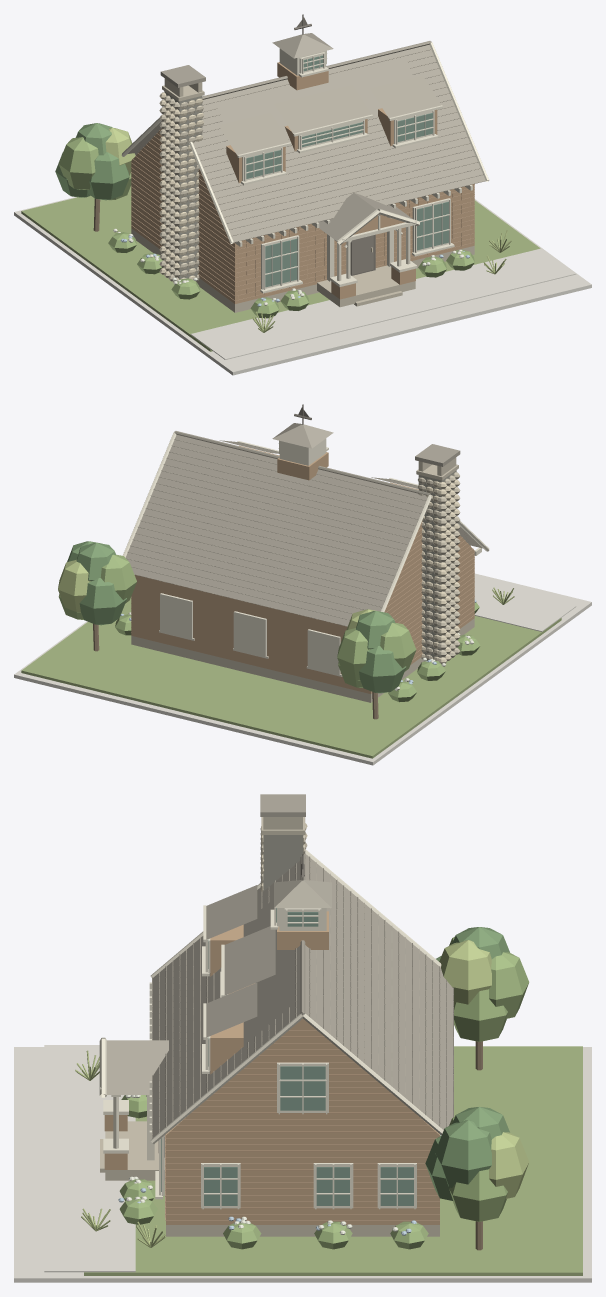
The model's file is shingle-cottage.glb.
3 renders of one model, top to bottom at view 1: azimuth 30°, elevation 25°; view 2: azimuth 150°, elevation 25°; view 3: azimuth 270°, elevation 25°, orthographic. The views are drawn at different scales.
Parts seen in each view (by area): view 1: roof, paving, cedar, grass, cream, stone, leaf, glass, cedar3, stone2, roof2, leafdark (+3 smaller); view 2: roof, grass, cedar, paving, stone, cream, leaf, leafdark, roof2, stone2, leaflight, mortar (+1 smaller); view 3: roof, grass, cedar, paving, cream, leaf, cedar3, glass, leafdark, leaflight, stone, roof2 (+1 smaller).
Boxes of the visible parts, box(x1,y1,x2,y2) form: roof: box(128, 33, 487, 242); paving: box(14, 197, 591, 375); cedar: box(131, 62, 474, 303); grass: box(21, 185, 540, 351); cream: box(121, 42, 489, 293); stone: box(131, 78, 474, 312); leaf: box(58, 137, 474, 318); glass: box(246, 55, 448, 287); cedar3: box(131, 128, 474, 301); stone2: box(159, 92, 372, 279); roof2: box(195, 49, 485, 240); leafdark: box(55, 123, 129, 200); roof: box(125, 423, 482, 626); grass: box(21, 597, 561, 758); cedar: box(131, 445, 474, 693); paving: box(14, 573, 591, 765); stone: box(131, 457, 474, 702); cream: box(122, 432, 489, 676); leaf: box(58, 554, 480, 702); leafdark: box(67, 541, 406, 693); roof2: box(126, 439, 423, 626); stone2: box(421, 479, 460, 664); leaflight: box(58, 559, 514, 630); mortar: box(418, 470, 456, 657); roof: box(103, 794, 453, 1137); grass: box(84, 1046, 582, 1275); cedar: box(104, 911, 439, 1224); paving: box(14, 1045, 591, 1282); cream: box(99, 849, 443, 1209); leaf: box(119, 936, 529, 1249); cedar3: box(165, 1030, 439, 1220); glass: box(161, 908, 440, 1205); leafdark: box(425, 927, 509, 1200); leaflight: box(75, 940, 529, 1247); stone: box(100, 817, 439, 1236); roof2: box(152, 861, 453, 1138).
Bounding box in the file's own units: 18 × 11.35 × 19.
